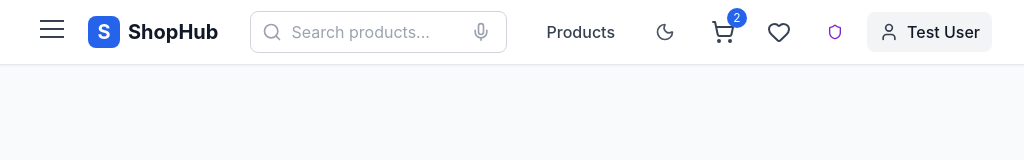
Scenario: Header › Voice Search › hides search suggestions when voice error is shown
In the field with placeholder "Search products...": (378, 32) [250,11,506,53], type "test"
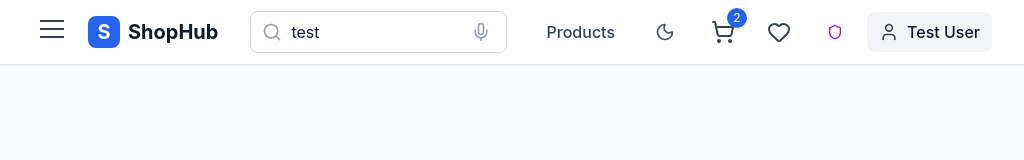
Focus the field with placeholder "Search products...": (378, 32) [250,11,506,53]
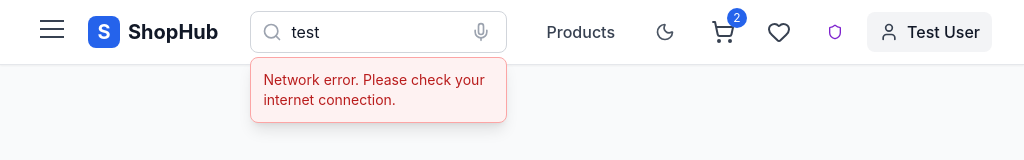
Check: the text "Network error. Please check your internet connection." is shown, box [263,70,494,110]
